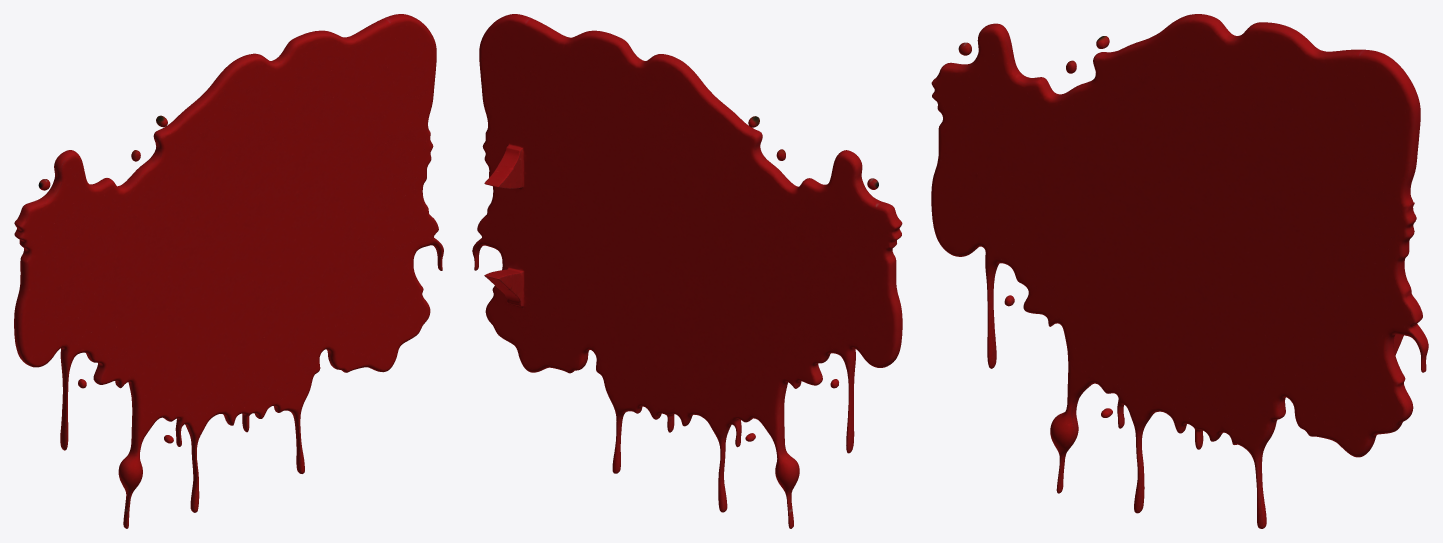
The model's file is blood_decal_1.glb.
The picture shows the model from 3 angles, left to right: view 1: azimuth 30°, elevation 25°; view 2: azimuth 150°, elevation 25°; view 3: azimuth 330°, elevation 25°; orthographic projection. The views are drawn at different scales.
Parts seen in each view (by area): view 1: mesh_node; view 2: mesh_node; view 3: mesh_node.
Part boxes in pixels (left/top/right/bottom): mesh_node: left=14, top=14, right=443, bottom=528; mesh_node: left=472, top=14, right=902, bottom=528; mesh_node: left=931, top=14, right=1428, bottom=528.
Bounding box in the file's own units: 1.87 × 1.88 × 0.2698.
1 material, 1 textured.
